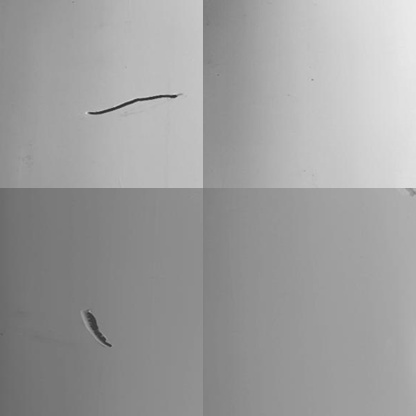fengxi: (86, 91, 186, 116)
kongdong: (79, 303, 113, 350)
